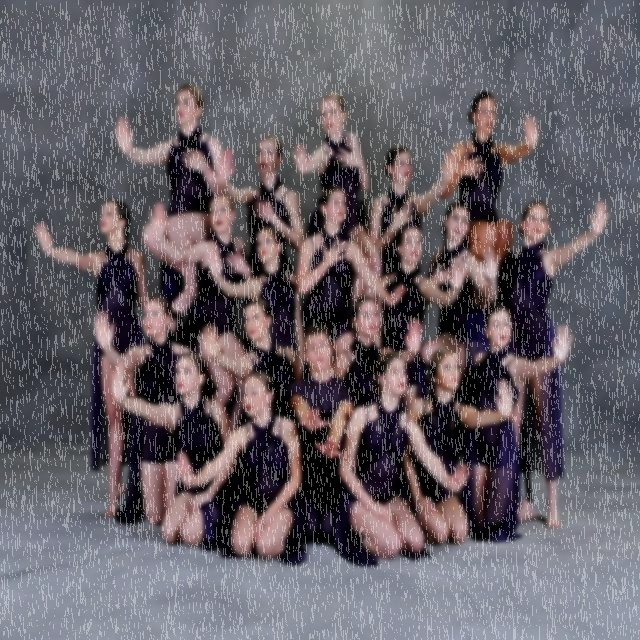pessoa: (30, 196, 151, 516), (502, 194, 612, 534), (327, 348, 477, 571), (113, 82, 234, 312), (460, 300, 574, 542), (172, 366, 308, 568), (146, 188, 254, 436), (110, 350, 238, 550), (92, 289, 192, 529), (438, 86, 540, 314), (290, 92, 383, 309), (294, 181, 407, 357), (217, 134, 305, 346), (375, 219, 470, 410), (280, 322, 356, 546), (204, 222, 306, 384), (423, 197, 503, 379), (199, 298, 307, 428), (366, 144, 463, 280), (330, 292, 425, 410)
